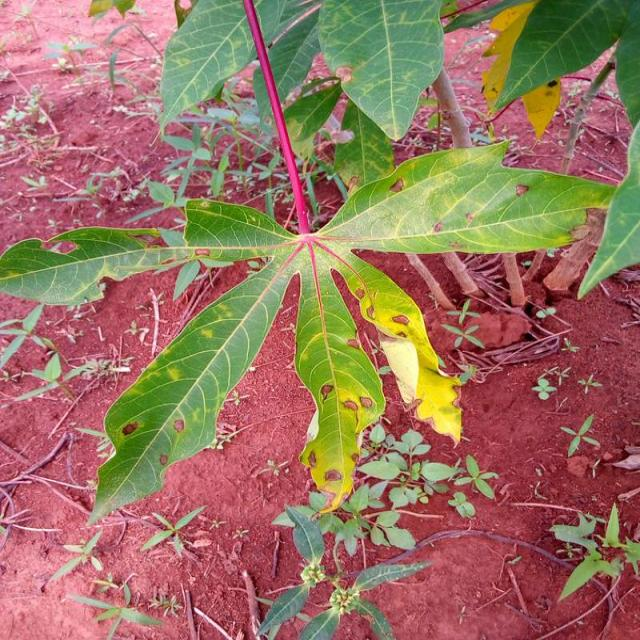cassava leaf: (5, 0, 631, 527), (86, 244, 300, 527), (316, 0, 445, 142)
